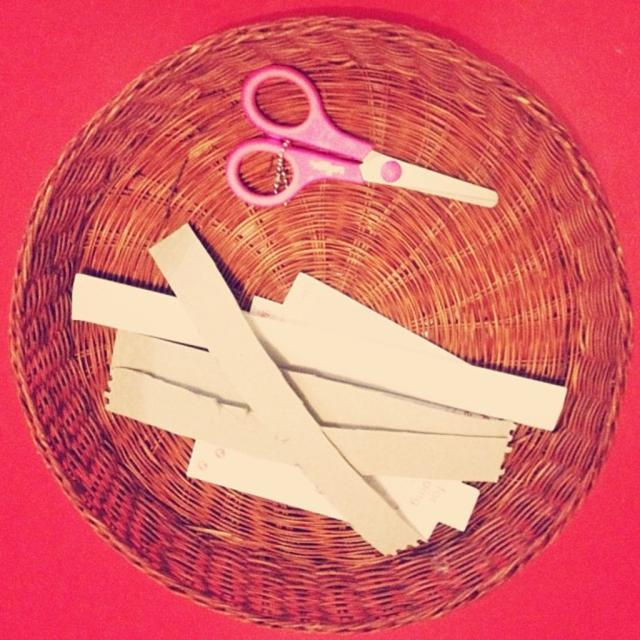scissors: (226, 55, 519, 223), (225, 63, 499, 209)
